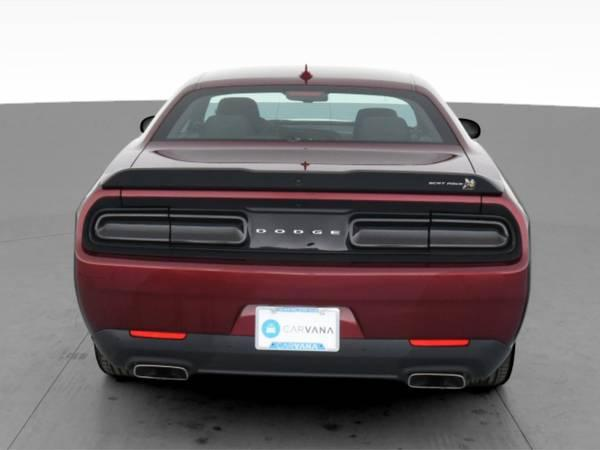Left_Taillight: (84, 196, 244, 257)
Rear_Bumper: (72, 242, 531, 405)
Rear_Windshield: (144, 77, 471, 147)
Right_Taillight: (351, 200, 524, 264)
Tailgate: (122, 143, 481, 263)
